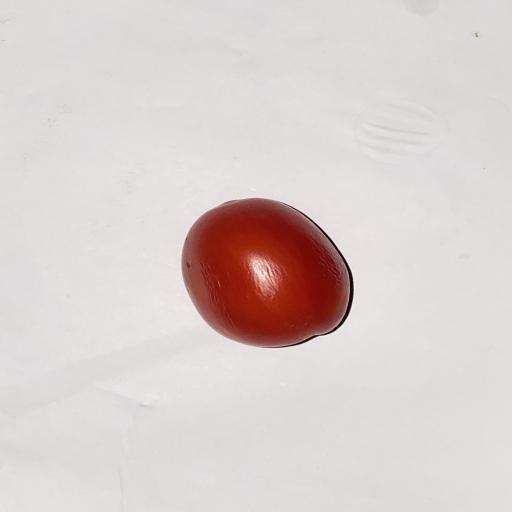spoiled: (182, 198, 350, 347)
